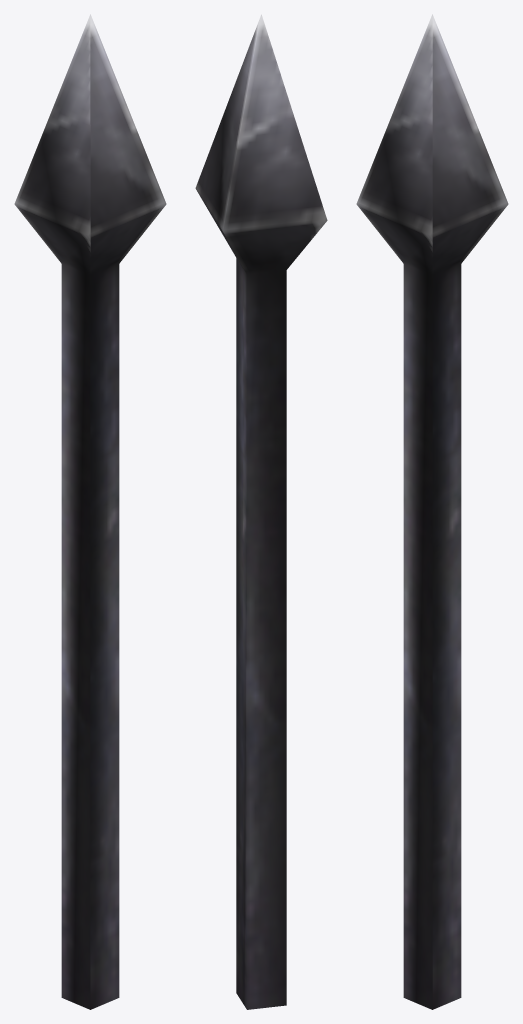
The model's file is tiezhalan02_01.FBX.
3 renders of one model, left to right at view 1: azimuth 90°, elevation 25°; view 2: azimuth 150°, elevation 25°; view 3: azimuth 270°, elevation 25°, orthographic.
Parts seen in each view (by area): view 1: tiezhalan02_01; view 2: tiezhalan02_01; view 3: tiezhalan02_01.
Part boxes in pixels (x1,y1,x2,y2): tiezhalan02_01: (14,14,166,1009); tiezhalan02_01: (195,14,327,1009); tiezhalan02_01: (356,14,508,1009).
Bounding box in the file's own units: 32.64 × 233 × 32.64.
Materials: 1 (1 with a texture image).
